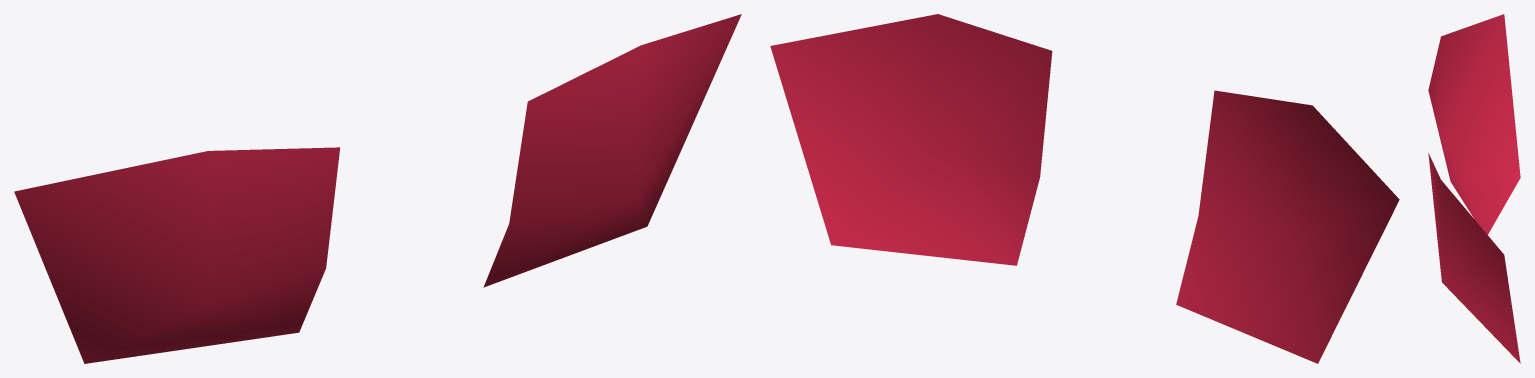
The picture shows the model from 3 angles, left to right: view 1: azimuth 30°, elevation 25°; view 2: azimuth 150°, elevation 25°; view 3: azimuth 270°, elevation 25°; orthographic projection. The views are drawn at different scales.
Visible parts, largest first — view 1: ef_811; view 2: ef_811; view 3: ef_811.
Boxes of the visible parts, <box> form: ef_811: <box>14,14,741,363</box>; ef_811: <box>770,14,1399,363</box>; ef_811: <box>1428,14,1520,363</box>.
Size of the model in its own units: 0.6465 by 0.2039 by 0.1047.
Materials: 1 (1 with a texture image).
